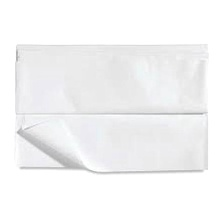tissue: (8, 36, 217, 180)
